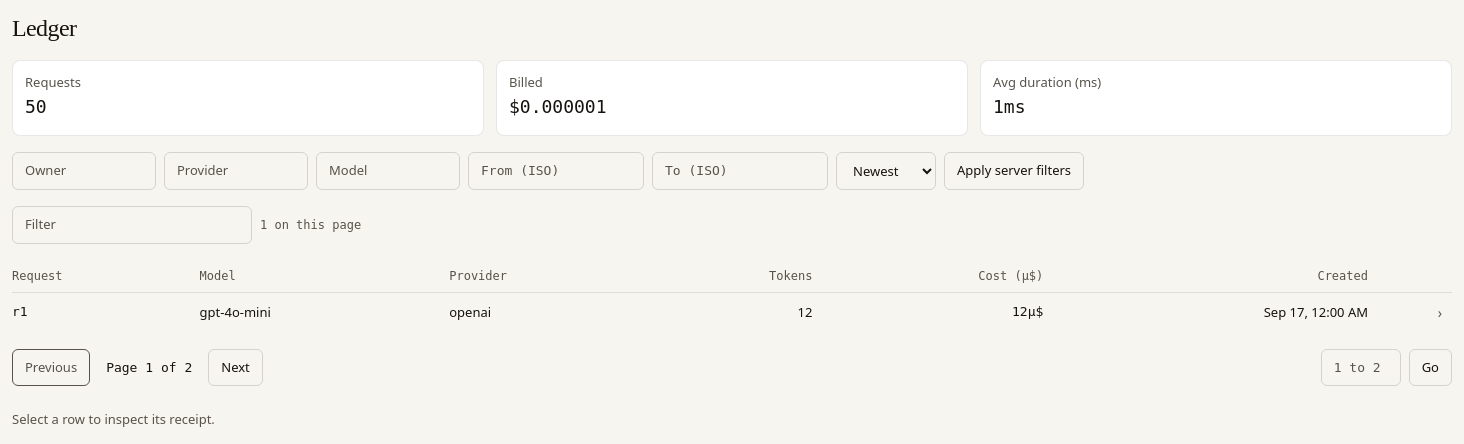
Scenario: LedgerPage › jumps to a page number within range
The image size is (1464, 444).
expect the table is shown: met, box [12,260,1452,332]
Type "2" into the field named "jump to page" at (1361, 367), box [1321,348,1401,386]
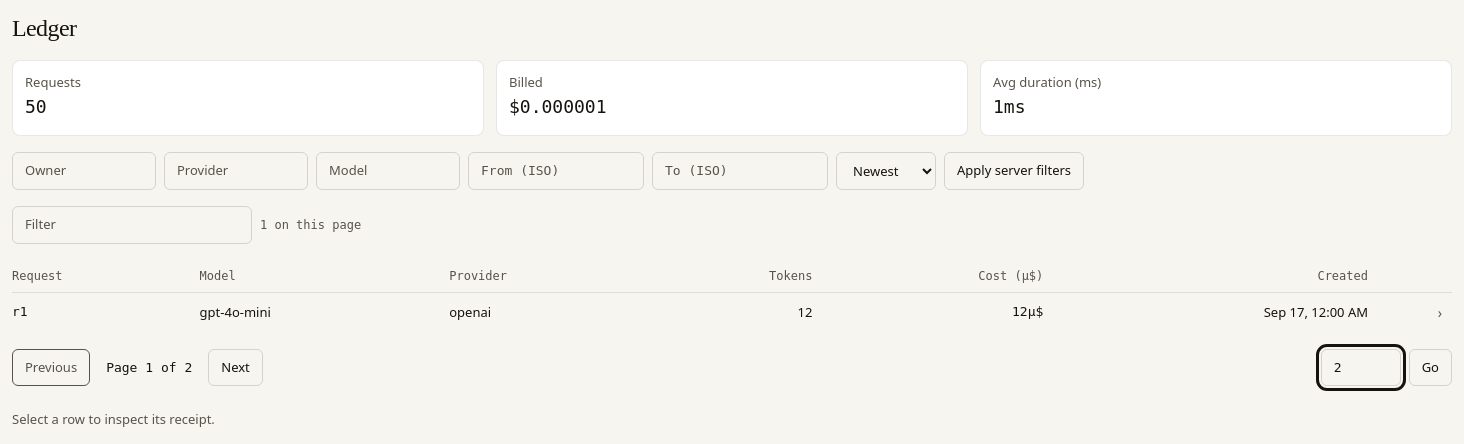
Click the button "Go" at (1430, 367), box [1409,348,1452,386]
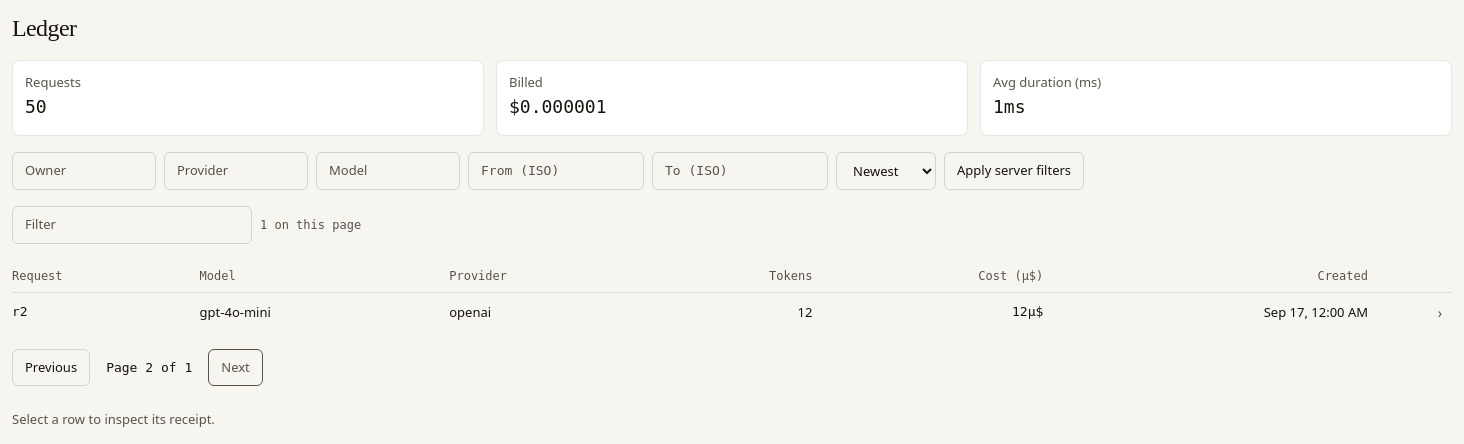
expect the text "r2" is shown: met, box [12,292,200,332]
